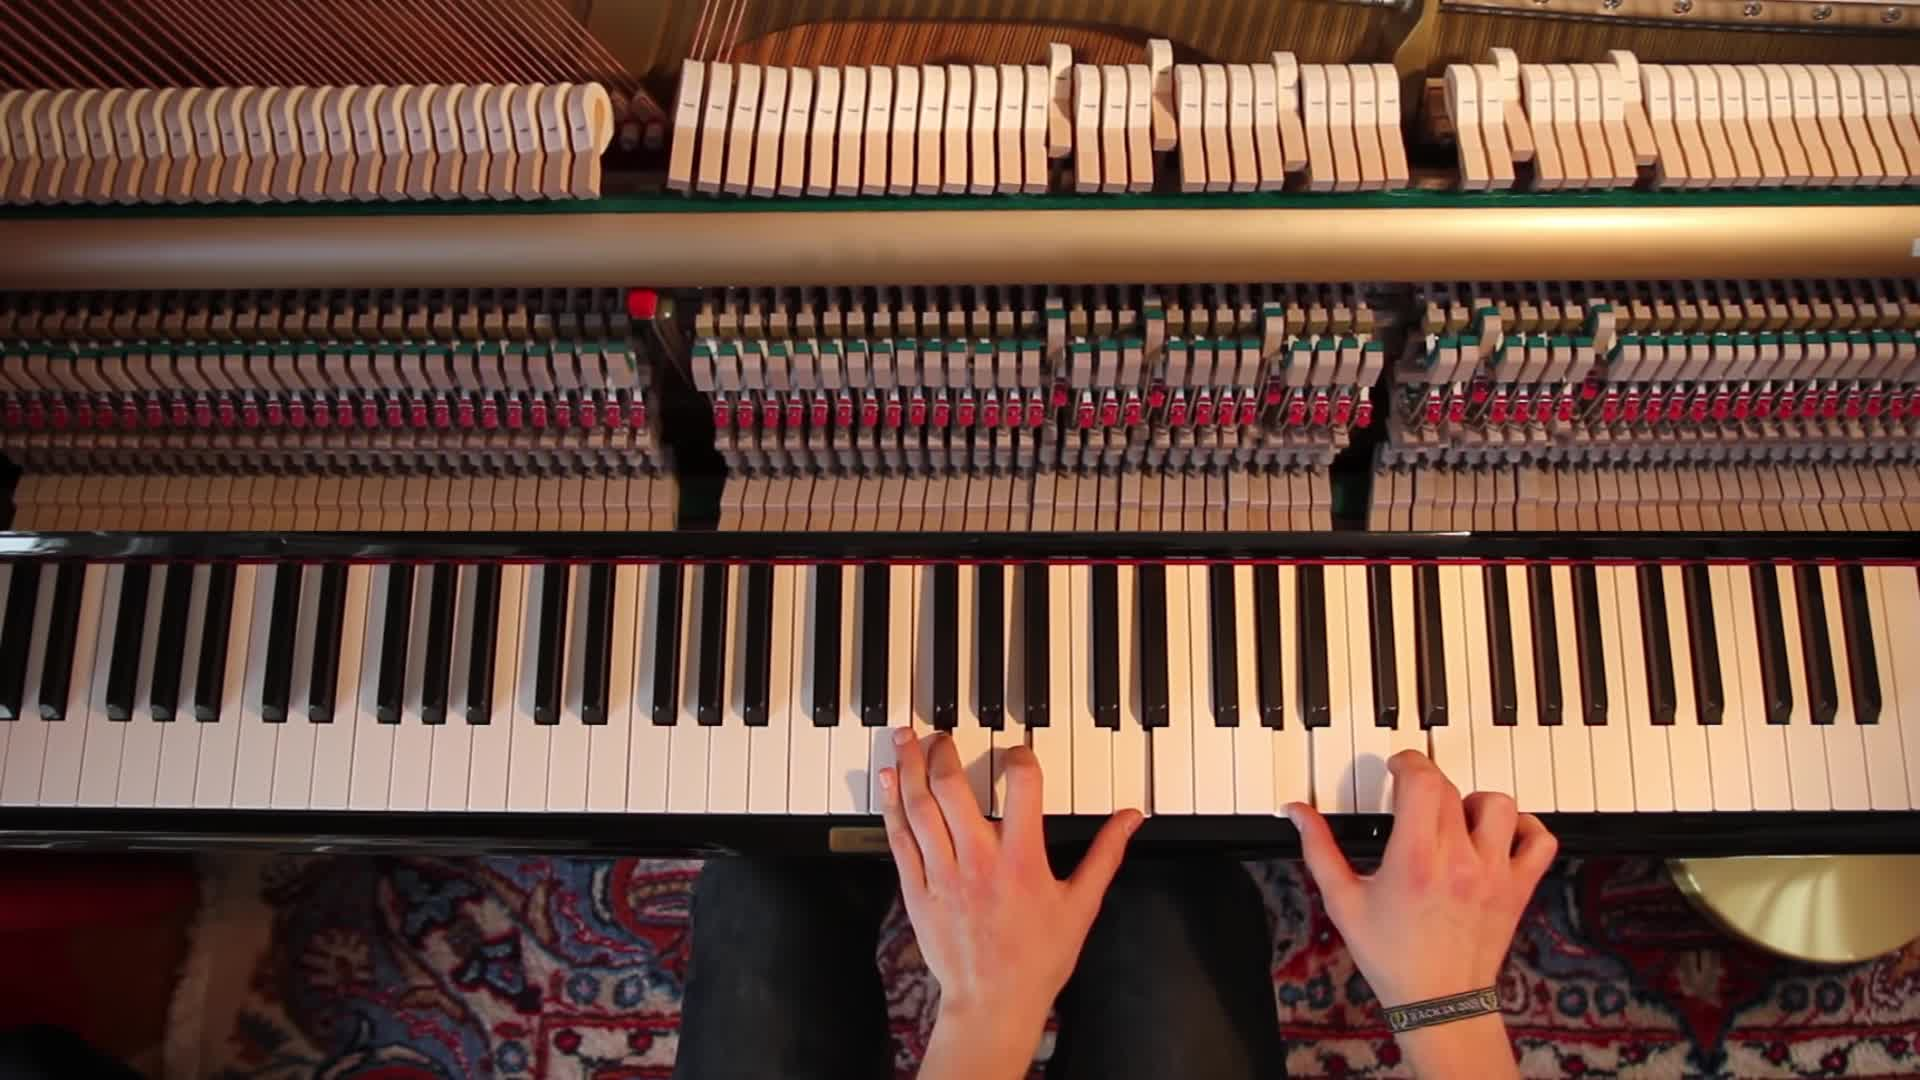left: (870, 716, 1146, 998)
right: (1276, 745, 1557, 1004)
